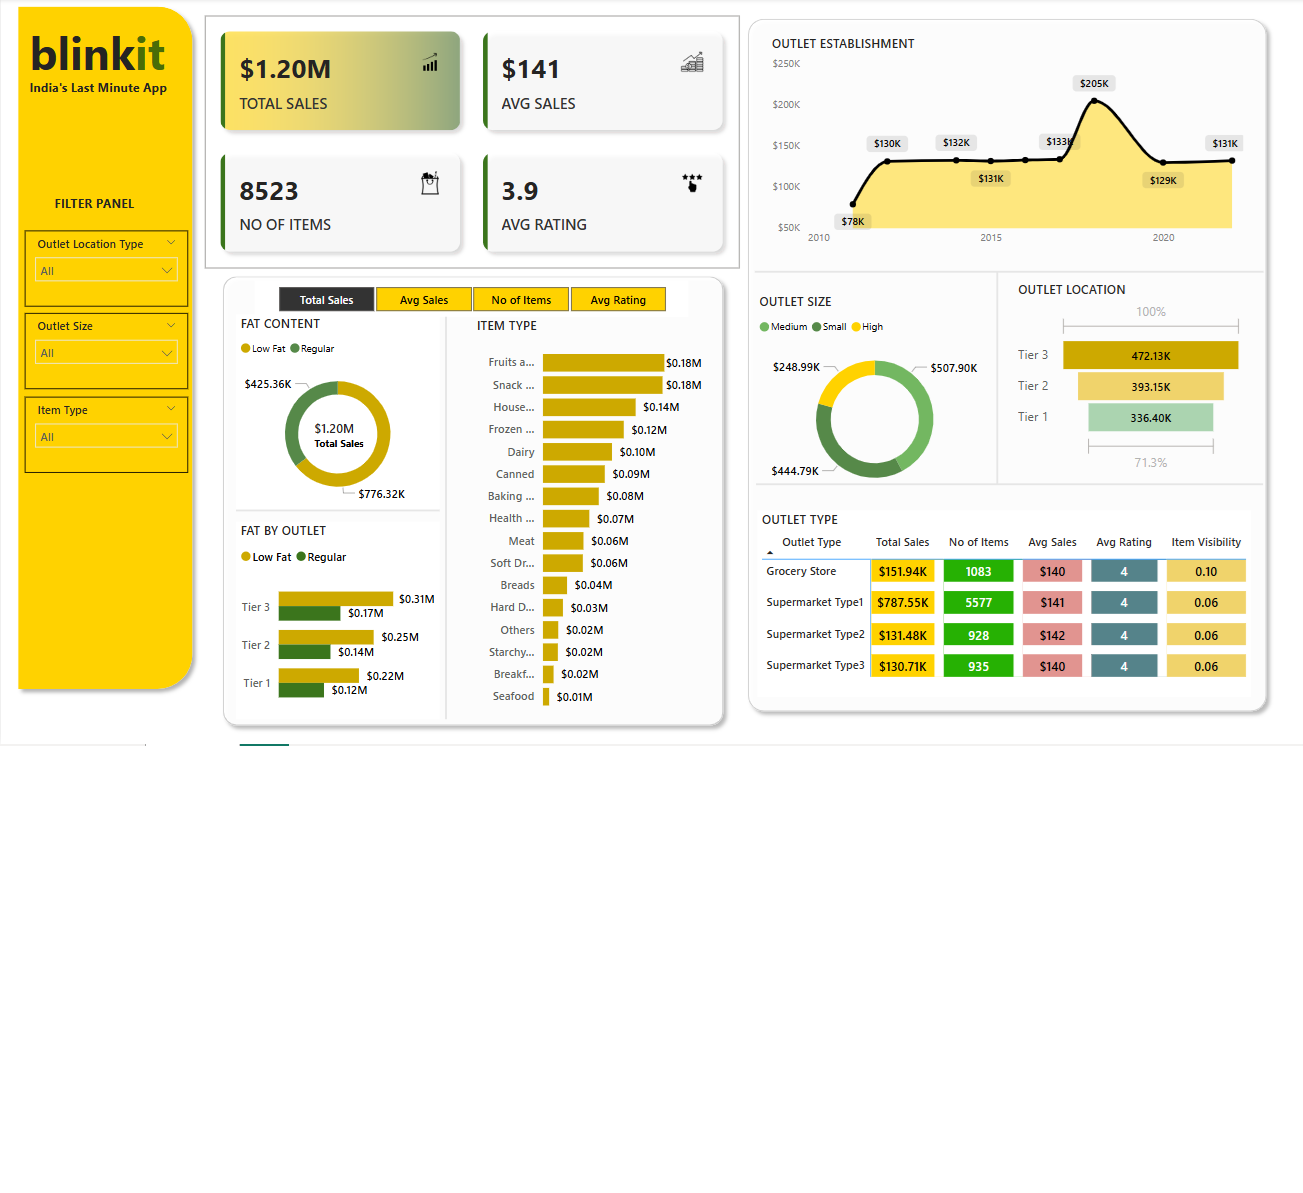

The dashboard page shown, as its layout file describes it:
{"tool":"powerbi","page":{"name":"Page 1","canvas":[1400,800],"ordinal":0},"visuals":[{"type":"shape","box":[10,0,205,750],"z":0},{"type":"textbox","box":[25,20.5,391.4,81.9],"z":1000},{"type":"textbox","box":[25,81.9,175.2,41],"z":2000},{"type":"cardVisual","fields":{"Data":["BlinkIT Grocery Data.Total Sales","BlinkIT Grocery Data.Avg Sales","BlinkIT Grocery Data.No of Items","BlinkIT Grocery Data.Avg Rating"]},"box":[219.2,19.3,573.7,270.7],"z":3000},{"type":"shape","box":[228.8,290.1,554.3,499.6],"z":4000},{"type":"donutChart","title":"FAT CONTENT","fields":{"Y":["BlinkIT Grocery Data.Total Sales"],"Category":["BlinkIT Grocery Data.Item Fat Content"]},"box":[252,339.1,218.5,211.8],"z":5000},{"type":"slicer","fields":{"Values":["Metrics.Metrics"]},"box":[272.1,303,465.1,38.9],"z":6000},{"type":"cardVisual","fields":{"Data":["BlinkIT Grocery Data.Total Sales"]},"box":[319,435.7,97.9,55],"z":7000},{"type":"clusteredBarChart","title":"FAT BY OUTLET","fields":{"Y":["BlinkIT Grocery Data.Total Sales"],"Category":["BlinkIT Grocery Data.Outlet Location Type"],"Series":["BlinkIT Grocery Data.Item Fat Content"]},"box":[252,561.7,218.5,211.8],"z":8000},{"type":"shape","box":[252,512.1,218.5,75.1],"z":9000},{"type":"shape","box":[470.5,341.8,13.4,431.6],"z":10000},{"type":"barChart","title":"ITEM TYPE","fields":{"Y":["BlinkIT Grocery Data.Total Sales"],"Category":["BlinkIT Grocery Data.Item Type"]},"box":[506,341.6,251.4,431.9],"z":11000},{"type":"shape","box":[792.8,12.9,573.7,760.6],"z":12000},{"type":"lineChart","title":"OUTLET ESTABLISHMENT","fields":{"Category":["BlinkIT Grocery Data.Outlet Establishment Year"],"Y":["BlinkIT Grocery Data.Total Sales"]},"box":[821.8,38.7,515.7,235.3],"z":13000},{"type":"shape","box":[808.3,284.2,545.6,18.8],"z":14000},{"type":"donutChart","title":"OUTLET SIZE","fields":{"Y":["BlinkIT Grocery Data.Total Sales"],"Category":["BlinkIT Grocery Data.Outlet Size"]},"box":[808.9,315.8,257.8,225.6],"z":15000},{"type":"shape","box":[1050.9,293.6,34.9,227.9],"z":16000},{"type":"funnel","title":"OUTLET LOCATION","fields":{"Y":["Sum(BlinkIT Grocery Data.Sales)"],"Category":["BlinkIT Grocery Data.Outlet Location Type"]},"box":[1086.1,303,251.4,209.5],"z":17000},{"type":"shape","box":[809.4,512.5,543.8,18.8],"z":18000},{"type":"pivotTable","title":"OUTLET TYPE","fields":{"Rows":["BlinkIT Grocery Data.Outlet Type"],"Values":["BlinkIT Grocery Data.Total Sales","BlinkIT Grocery Data.No of Items","BlinkIT Grocery Data.Avg Sales","BlinkIT Grocery Data.Avg Rating","Avg(BlinkIT Grocery Data.Item Visibility)"]},"box":[810.4,549.9,529.9,200.4],"z":19000},{"type":"slicer","fields":{"Values":["BlinkIT Grocery Data.Outlet Location Type"]},"box":[25,250,175,81.2],"z":20000},{"type":"slicer","fields":{"Values":["BlinkIT Grocery Data.Outlet Size"]},"box":[25,337.5,175,81.2],"z":21000},{"type":"slicer","fields":{"Values":["BlinkIT Grocery Data.Item Type"]},"box":[25,428.1,175,81.2],"z":22000},{"type":"textbox","box":[52.3,206.4,120.6,42.9],"z":23000}]}

Visuals, with their boxes on the page's 1400x800 design canvas (x1, y1, x2, y2). These are canvas units, not pixel positions in the 1303x1193 screenshot, which may show the page scaled, cropped or inside an application window:
shape: (10,0,215,750)
textbox: (25,20,416,102)
textbox: (25,82,200,123)
cardVisual - BlinkIT Grocery Data.Total Sales x BlinkIT Grocery Data.Avg Sales: (219,19,793,290)
shape: (229,290,783,790)
"FAT CONTENT" donutChart: (252,339,470,551)
slicer - Metrics.Metrics: (272,303,737,342)
cardVisual - BlinkIT Grocery Data.Total Sales: (319,436,417,491)
"FAT BY OUTLET" clusteredBarChart: (252,562,470,774)
shape: (252,512,470,587)
shape: (470,342,484,773)
"ITEM TYPE" barChart: (506,342,757,774)
shape: (793,13,1366,774)
"OUTLET ESTABLISHMENT" lineChart: (822,39,1338,274)
shape: (808,284,1354,303)
"OUTLET SIZE" donutChart: (809,316,1067,541)
shape: (1051,294,1086,522)
"OUTLET LOCATION" funnel: (1086,303,1338,512)
shape: (809,512,1353,531)
"OUTLET TYPE" pivotTable: (810,550,1340,750)
slicer - BlinkIT Grocery Data.Outlet Location Type: (25,250,200,331)
slicer - BlinkIT Grocery Data.Outlet Size: (25,338,200,419)
slicer - BlinkIT Grocery Data.Item Type: (25,428,200,509)
textbox: (52,206,173,249)
